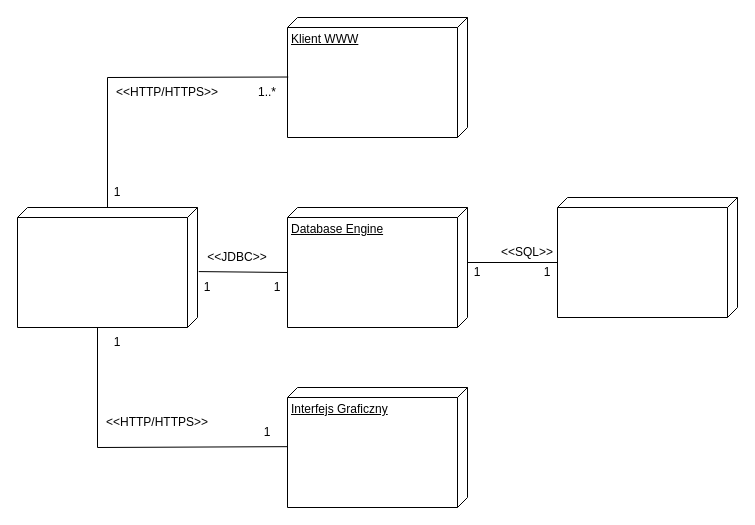
The diagram is 755 pixels wide and 525 high, and some of its shapes have lost their labels. The shapes that lost their labels are listed below. From the top down, each one's centre as x and y in pixels, then its label:
At (107,267): "Serwer WWW".
At (647,257): "Baza Danych".
